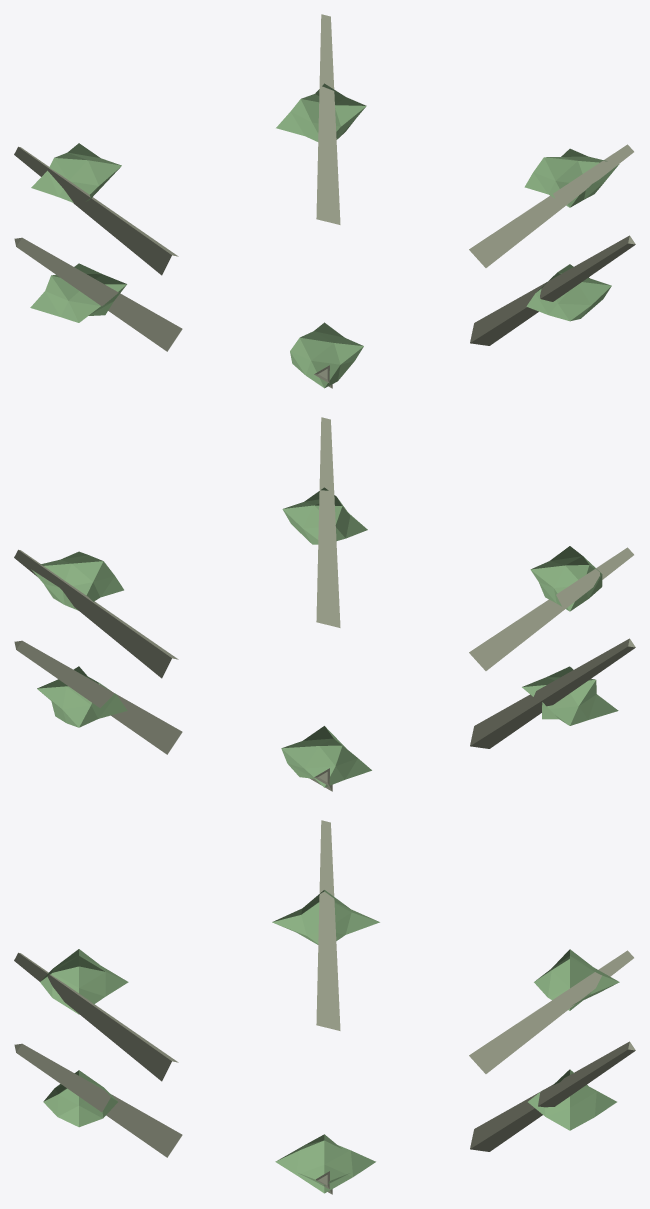
File: bramble_v43.glb
The picture shows the model from 3 angles, top to bottom: view 1: azimuth 30°, elevation 25°; view 2: azimuth 150°, elevation 25°; view 3: azimuth 270°, elevation 25°; orthographic projection.
Parts seen in each view (by area): view 1: lod0; view 2: lod0; view 3: lod0.
Boxes of the visible parts, bbox=[...] form: lod0: bbox=[14, 14, 635, 388]; lod0: bbox=[14, 417, 635, 791]; lod0: bbox=[14, 820, 635, 1194].
Size of what is drawn, in the model's own units: 1.11 by 0.2562 by 0.9691.
